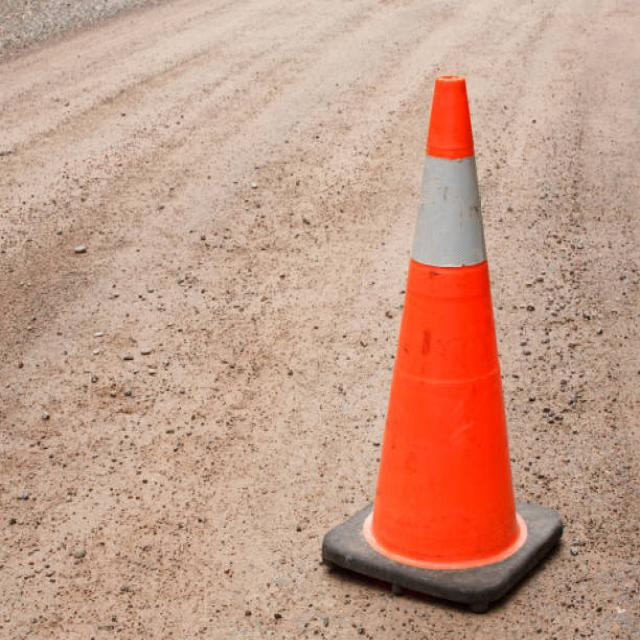Traffic Cone: (275, 9, 633, 640)
